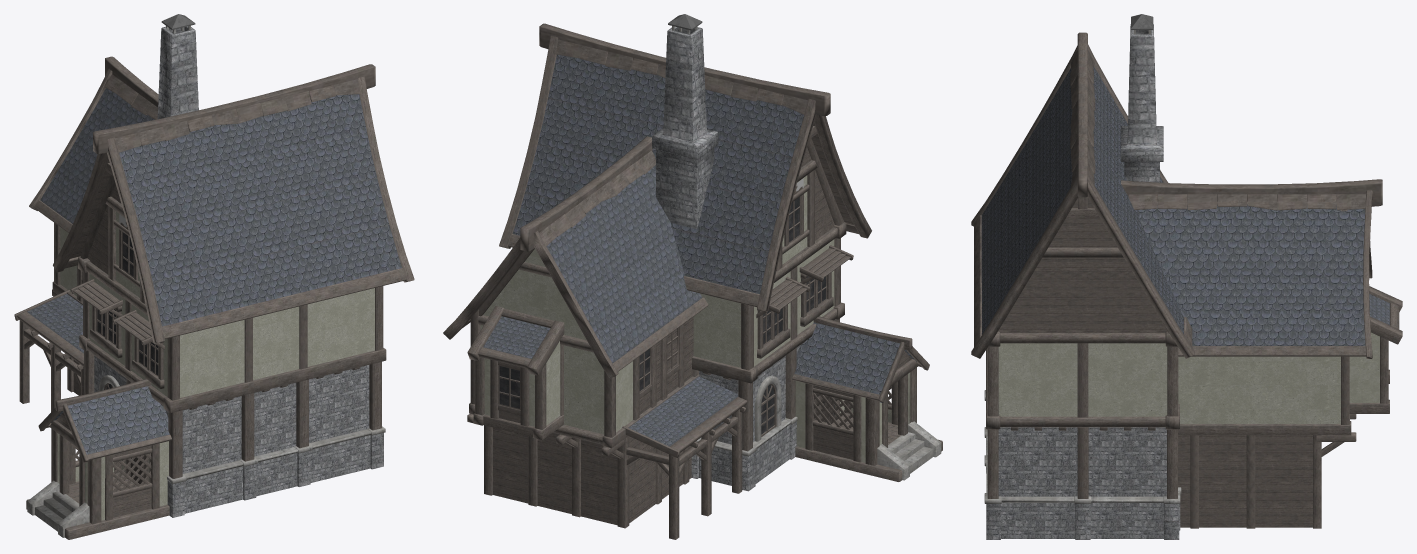
The model's file is medieval.glb.
3 renders of one model, left to right at view 1: azimuth 30°, elevation 25°; view 2: azimuth 150°, elevation 25°; view 3: azimuth 270°, elevation 25°, orthographic. The views are drawn at different scales.
Visible parts, largest first — view 1: Cube.013, Cube, Cube.018, Cube.111, Cube.154, Cube.219, Cube.113, Cube.271, Cube.105, Cube.076, Cube.215, Cube.182 (+39 smaller); view 2: Cube.112, Cube.118, Cube.154, Cube.271, Cube, Cube.222, Cube.110, Cube.182, pasted__Cube.219, Cube.105, Cube.215, Cube.224 (+42 smaller); view 3: Cube, Cube.015, Cube.118, Cube.013, Cube.112, Cube.271, Cube.014, Cube.224, Cube.111, Cube.110, Cube.089, Cube.043 (+25 smaller).
Part boxes in pixels (left/top/right/bottom): Cube.013: left=119, top=94, right=401, bottom=326; Cube: left=87, top=185, right=374, bottom=513; Cube.018: left=67, top=385, right=169, bottom=454; Cube.111: left=107, top=76, right=414, bottom=343; Cube.154: left=40, top=88, right=154, bottom=223; Cube.219: left=115, top=79, right=360, bottom=152; Cube.113: left=162, top=268, right=406, bottom=338; Cube.271: left=157, top=26, right=198, bottom=119; Cube.105: left=93, top=64, right=375, bottom=153; Cube.076: left=163, top=348, right=386, bottom=413; Cube.215: left=56, top=412, right=168, bottom=520; Cube.182: left=27, top=294, right=83, bottom=353; Cube.112: left=512, top=54, right=803, bottom=294; Cube.118: left=480, top=249, right=693, bottom=525; Cube.154: left=546, top=167, right=702, bottom=362; Cube.271: left=652, top=26, right=718, bottom=228; Cube: left=693, top=147, right=834, bottom=485; Cube.222: left=794, top=322, right=900, bottom=394; Cube.110: left=499, top=35, right=815, bottom=311; Cube.182: left=628, top=376, right=738, bottom=446; pasted__Cube.219: left=555, top=39, right=807, bottom=114; Cube.105: left=539, top=23, right=830, bottom=116; Cube.215: left=795, top=350, right=911, bottom=462; Cube.224: left=520, top=136, right=652, bottom=251; Cube: left=998, top=197, right=1167, bottom=538; Cube.015: left=1139, top=201, right=1365, bottom=345; Cube.118: left=1178, top=356, right=1340, bottom=527; Cube.013: left=981, top=68, right=1072, bottom=334; Cube.112: left=1093, top=67, right=1183, bottom=333; Cube.271: left=1120, top=24, right=1163, bottom=182; Cube.014: left=1128, top=194, right=1365, bottom=210; Cube.224: left=1121, top=179, right=1382, bottom=206; Cube.111: left=971, top=45, right=1077, bottom=358; Cube.110: left=1087, top=44, right=1194, bottom=358; Cube.089: left=1178, top=421, right=1351, bottom=435; Cube.043: left=1000, top=416, right=1165, bottom=427.
Bounding box in the file's own units: 10.7 × 12.6 × 10.77.
1 material, 1 textured.
